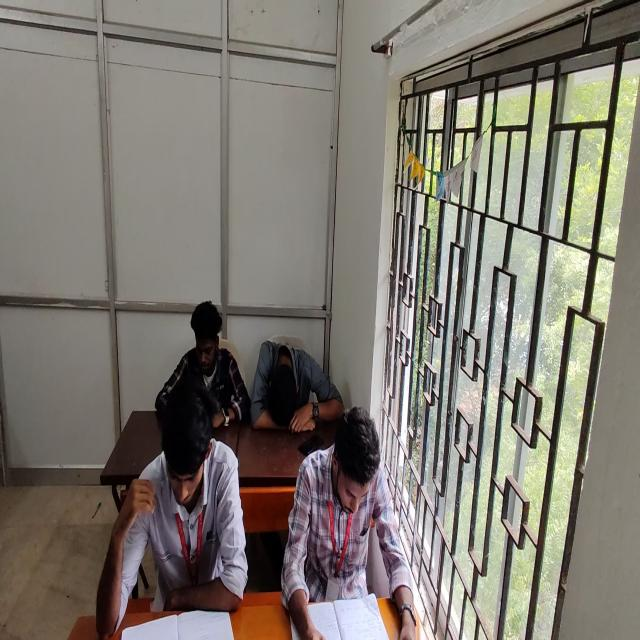reading: (98, 386, 246, 637), (288, 405, 408, 640)
sleeping: (252, 339, 342, 432)
using_mobile: (155, 298, 251, 429)
